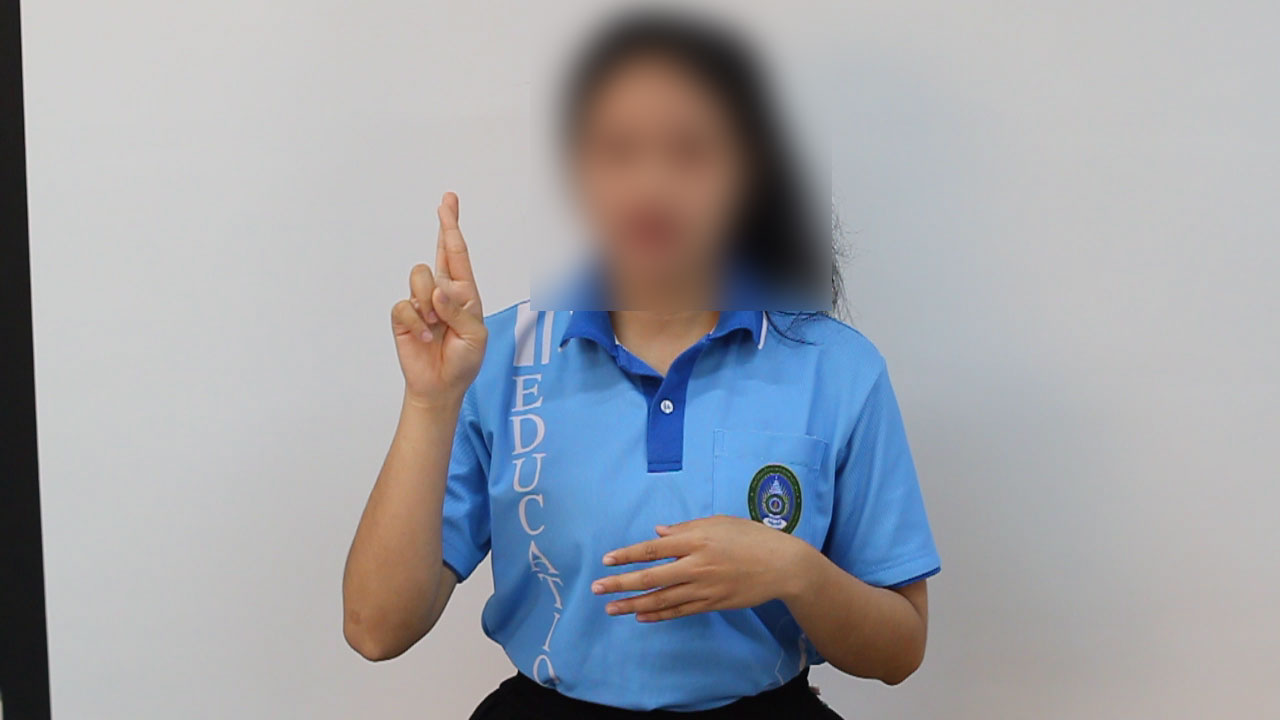rao: (376, 183, 501, 434)
